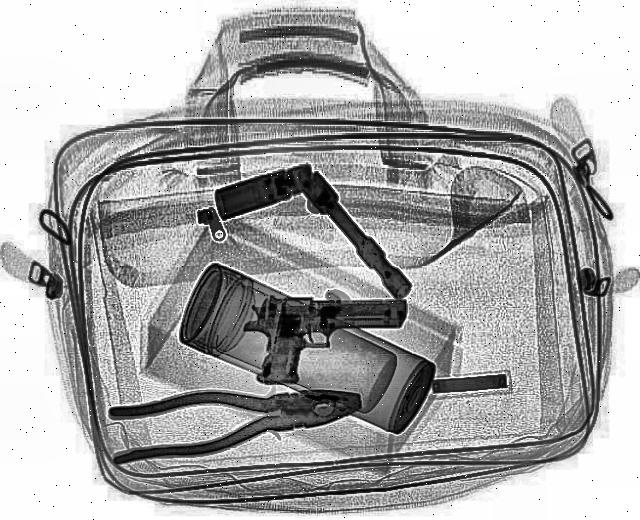Gun: (240, 295, 410, 383)
Pliers: (102, 369, 370, 465)
